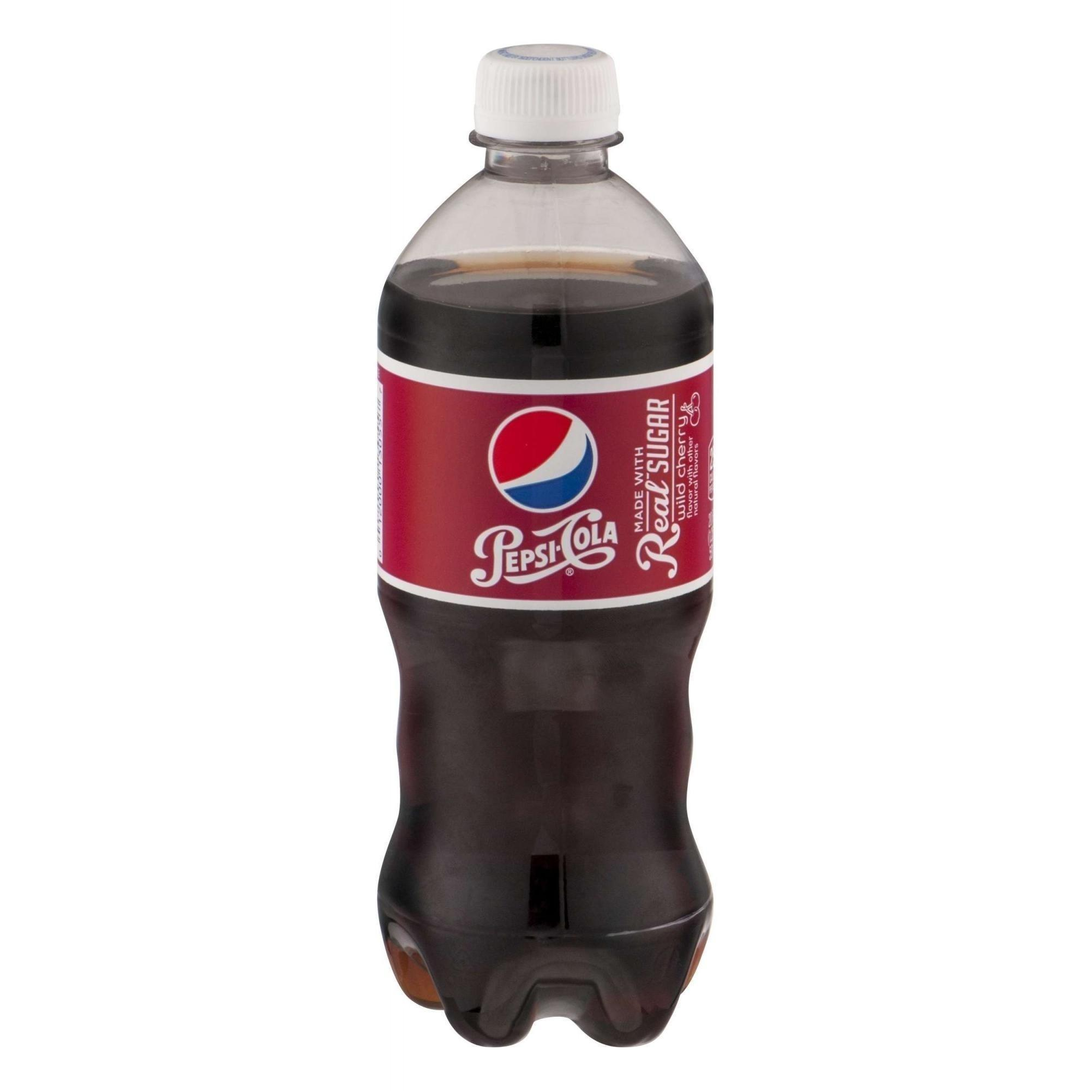bottle-plastic: (368, 28, 722, 1065)
